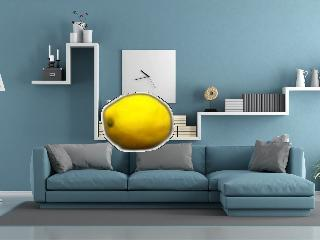lemon: (102, 94, 172, 150)
